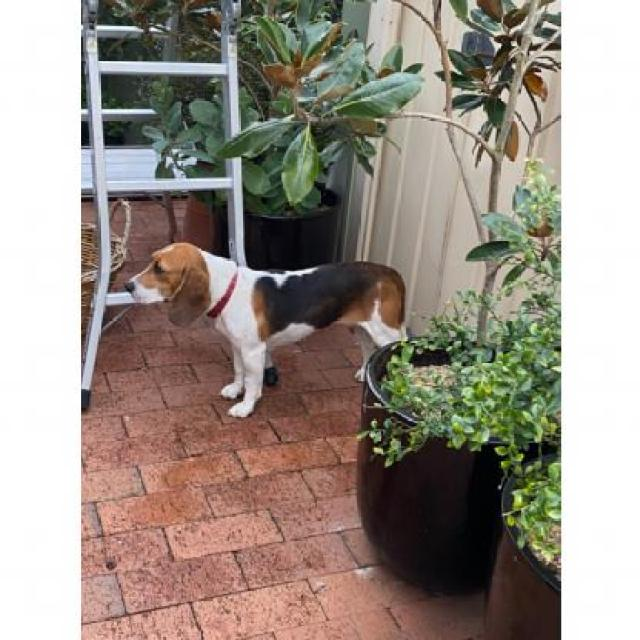Dog: (124, 238, 413, 420)
